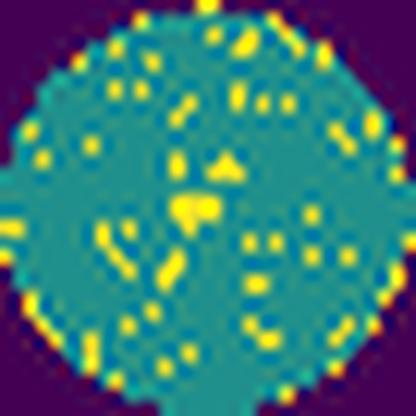Center: (165, 148, 243, 247)
